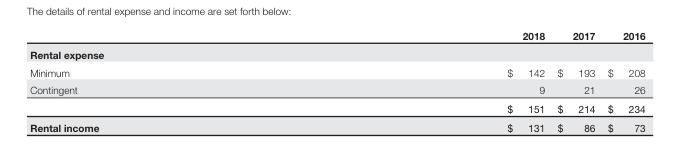table: (29, 29, 644, 133)
table column: (29, 29, 302, 133), (302, 29, 550, 133), (550, 29, 600, 133), (600, 29, 644, 133)
table column header: (29, 29, 644, 44)
table projected row header: (29, 44, 644, 63)
table row: (29, 44, 644, 63), (29, 80, 644, 99), (29, 99, 644, 117), (29, 63, 644, 80), (29, 117, 644, 133), (29, 29, 644, 44)
